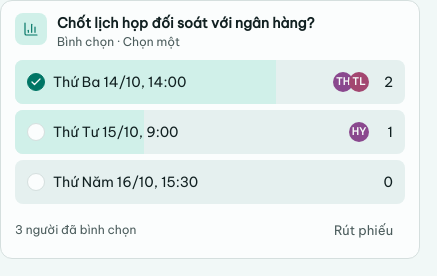
Test: PollCard › withdraws every own vote with "Rút phiếu"
Click the button "Rút phiếu". click: [364, 230]
box: [322,215,405,245]
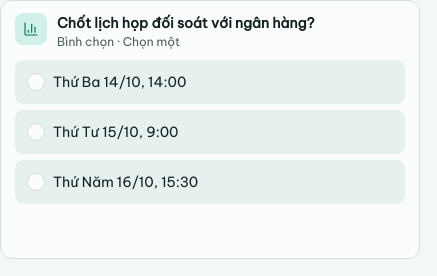
Now the button "Rút phiếu" is gone
